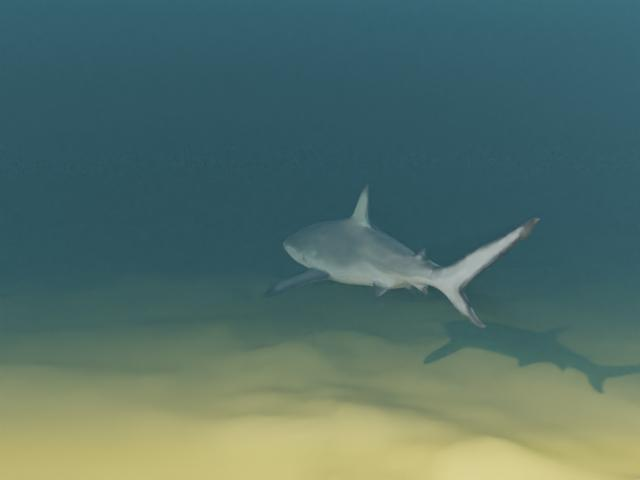Carribean Shark.001: (263, 184, 539, 328)
